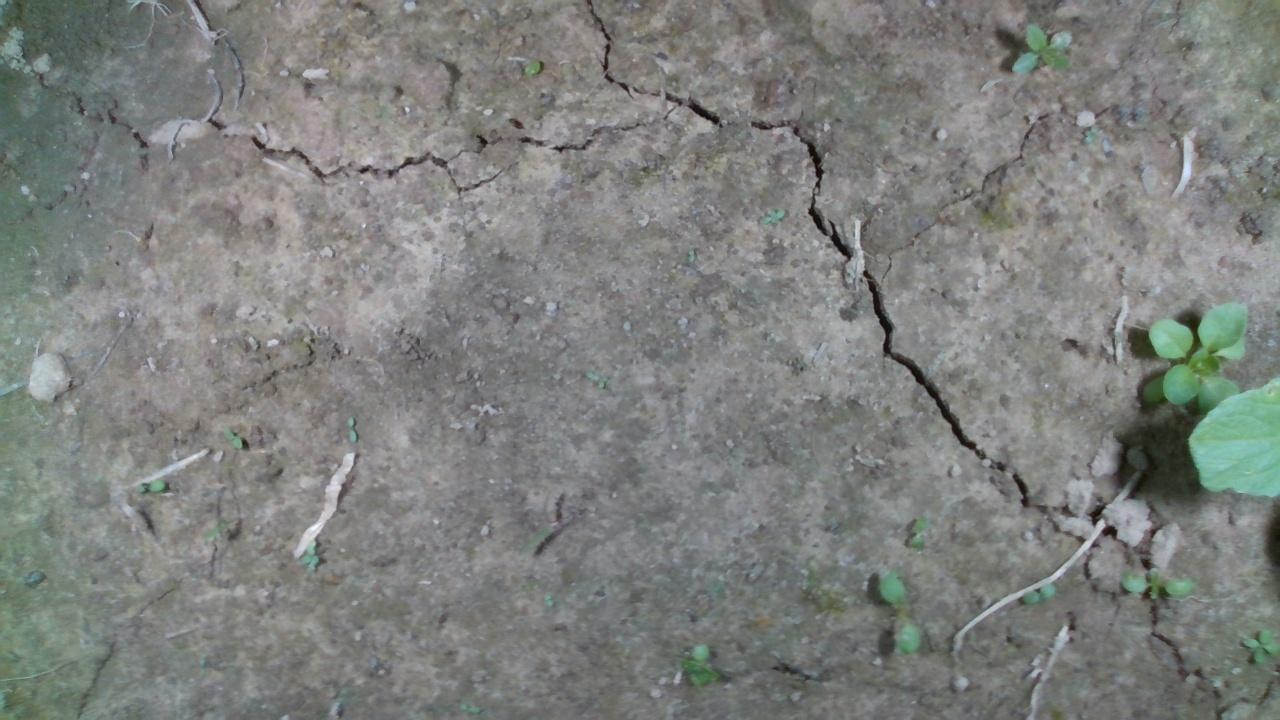weed: (874, 568, 922, 653), (1008, 18, 1071, 74), (1118, 564, 1192, 603), (1239, 626, 1278, 664), (1019, 582, 1056, 604)
